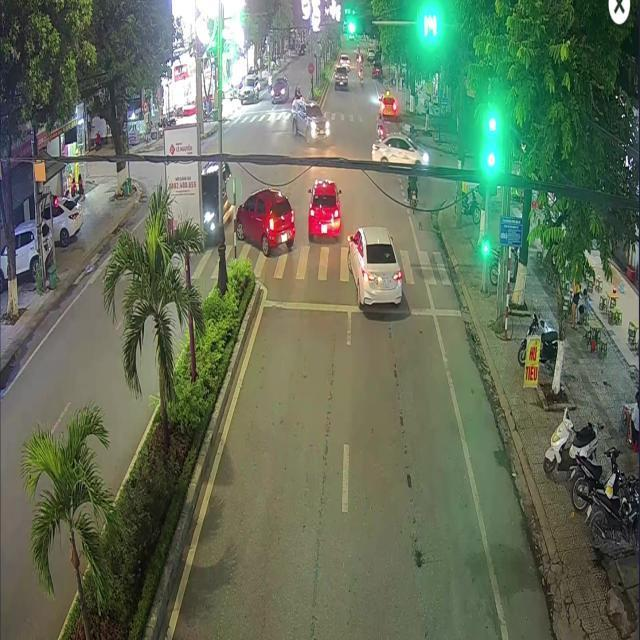car: (347, 223, 401, 309), (236, 188, 296, 256), (304, 174, 343, 244)
green_light: (484, 110, 498, 172), (345, 13, 372, 38)
stop_line: (262, 299, 460, 316)
